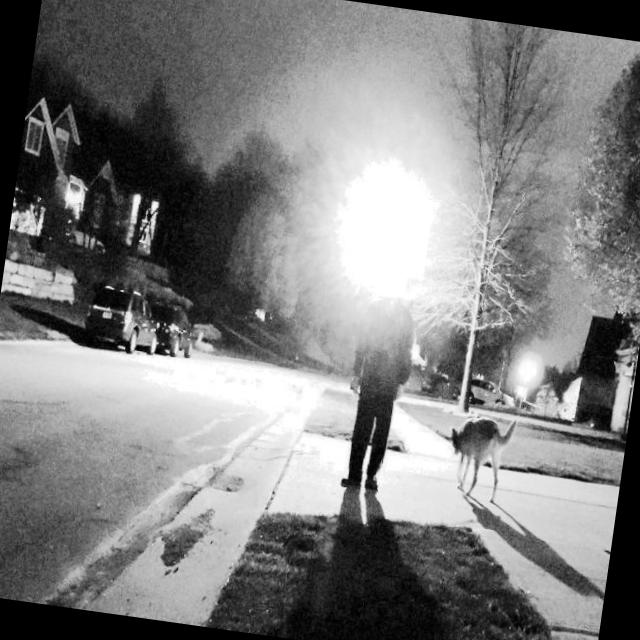Dog: (428, 392, 518, 509)
Person: (314, 232, 442, 522)
